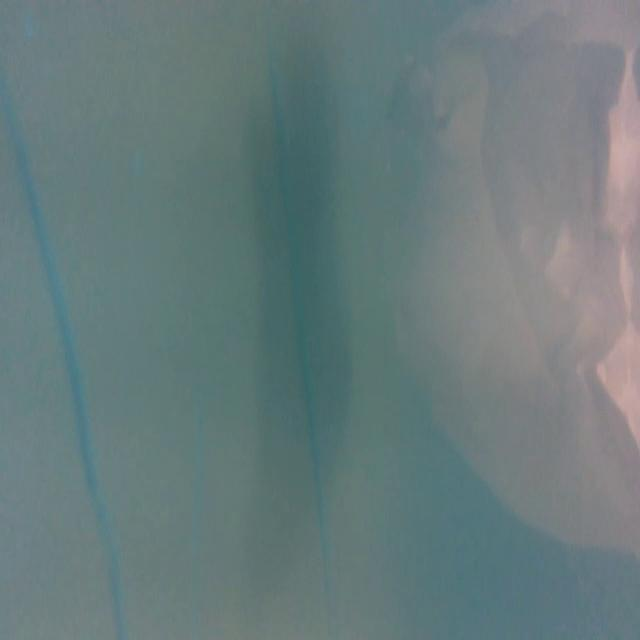plastic bags: (397, 4, 640, 543)
